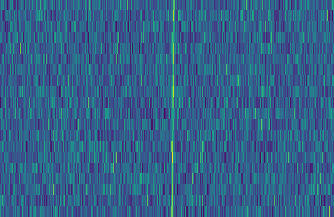signal: (167, 0, 177, 217)
